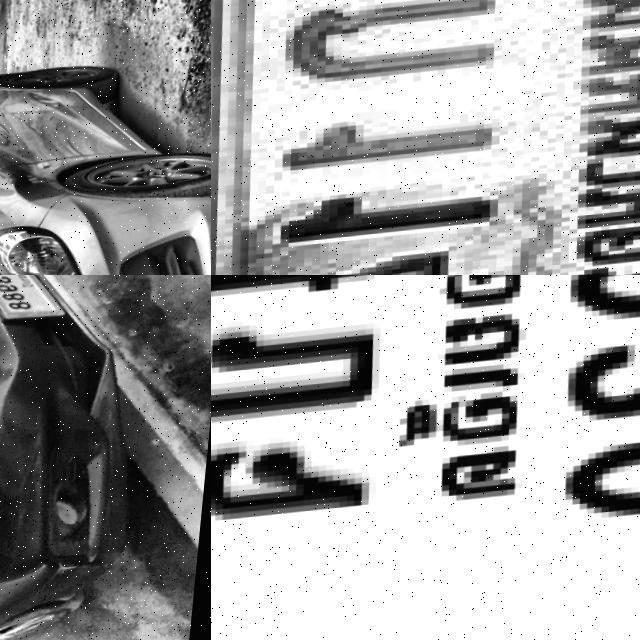license-plate: (211, 275, 640, 640), (211, 0, 640, 275), (0, 275, 78, 329)
